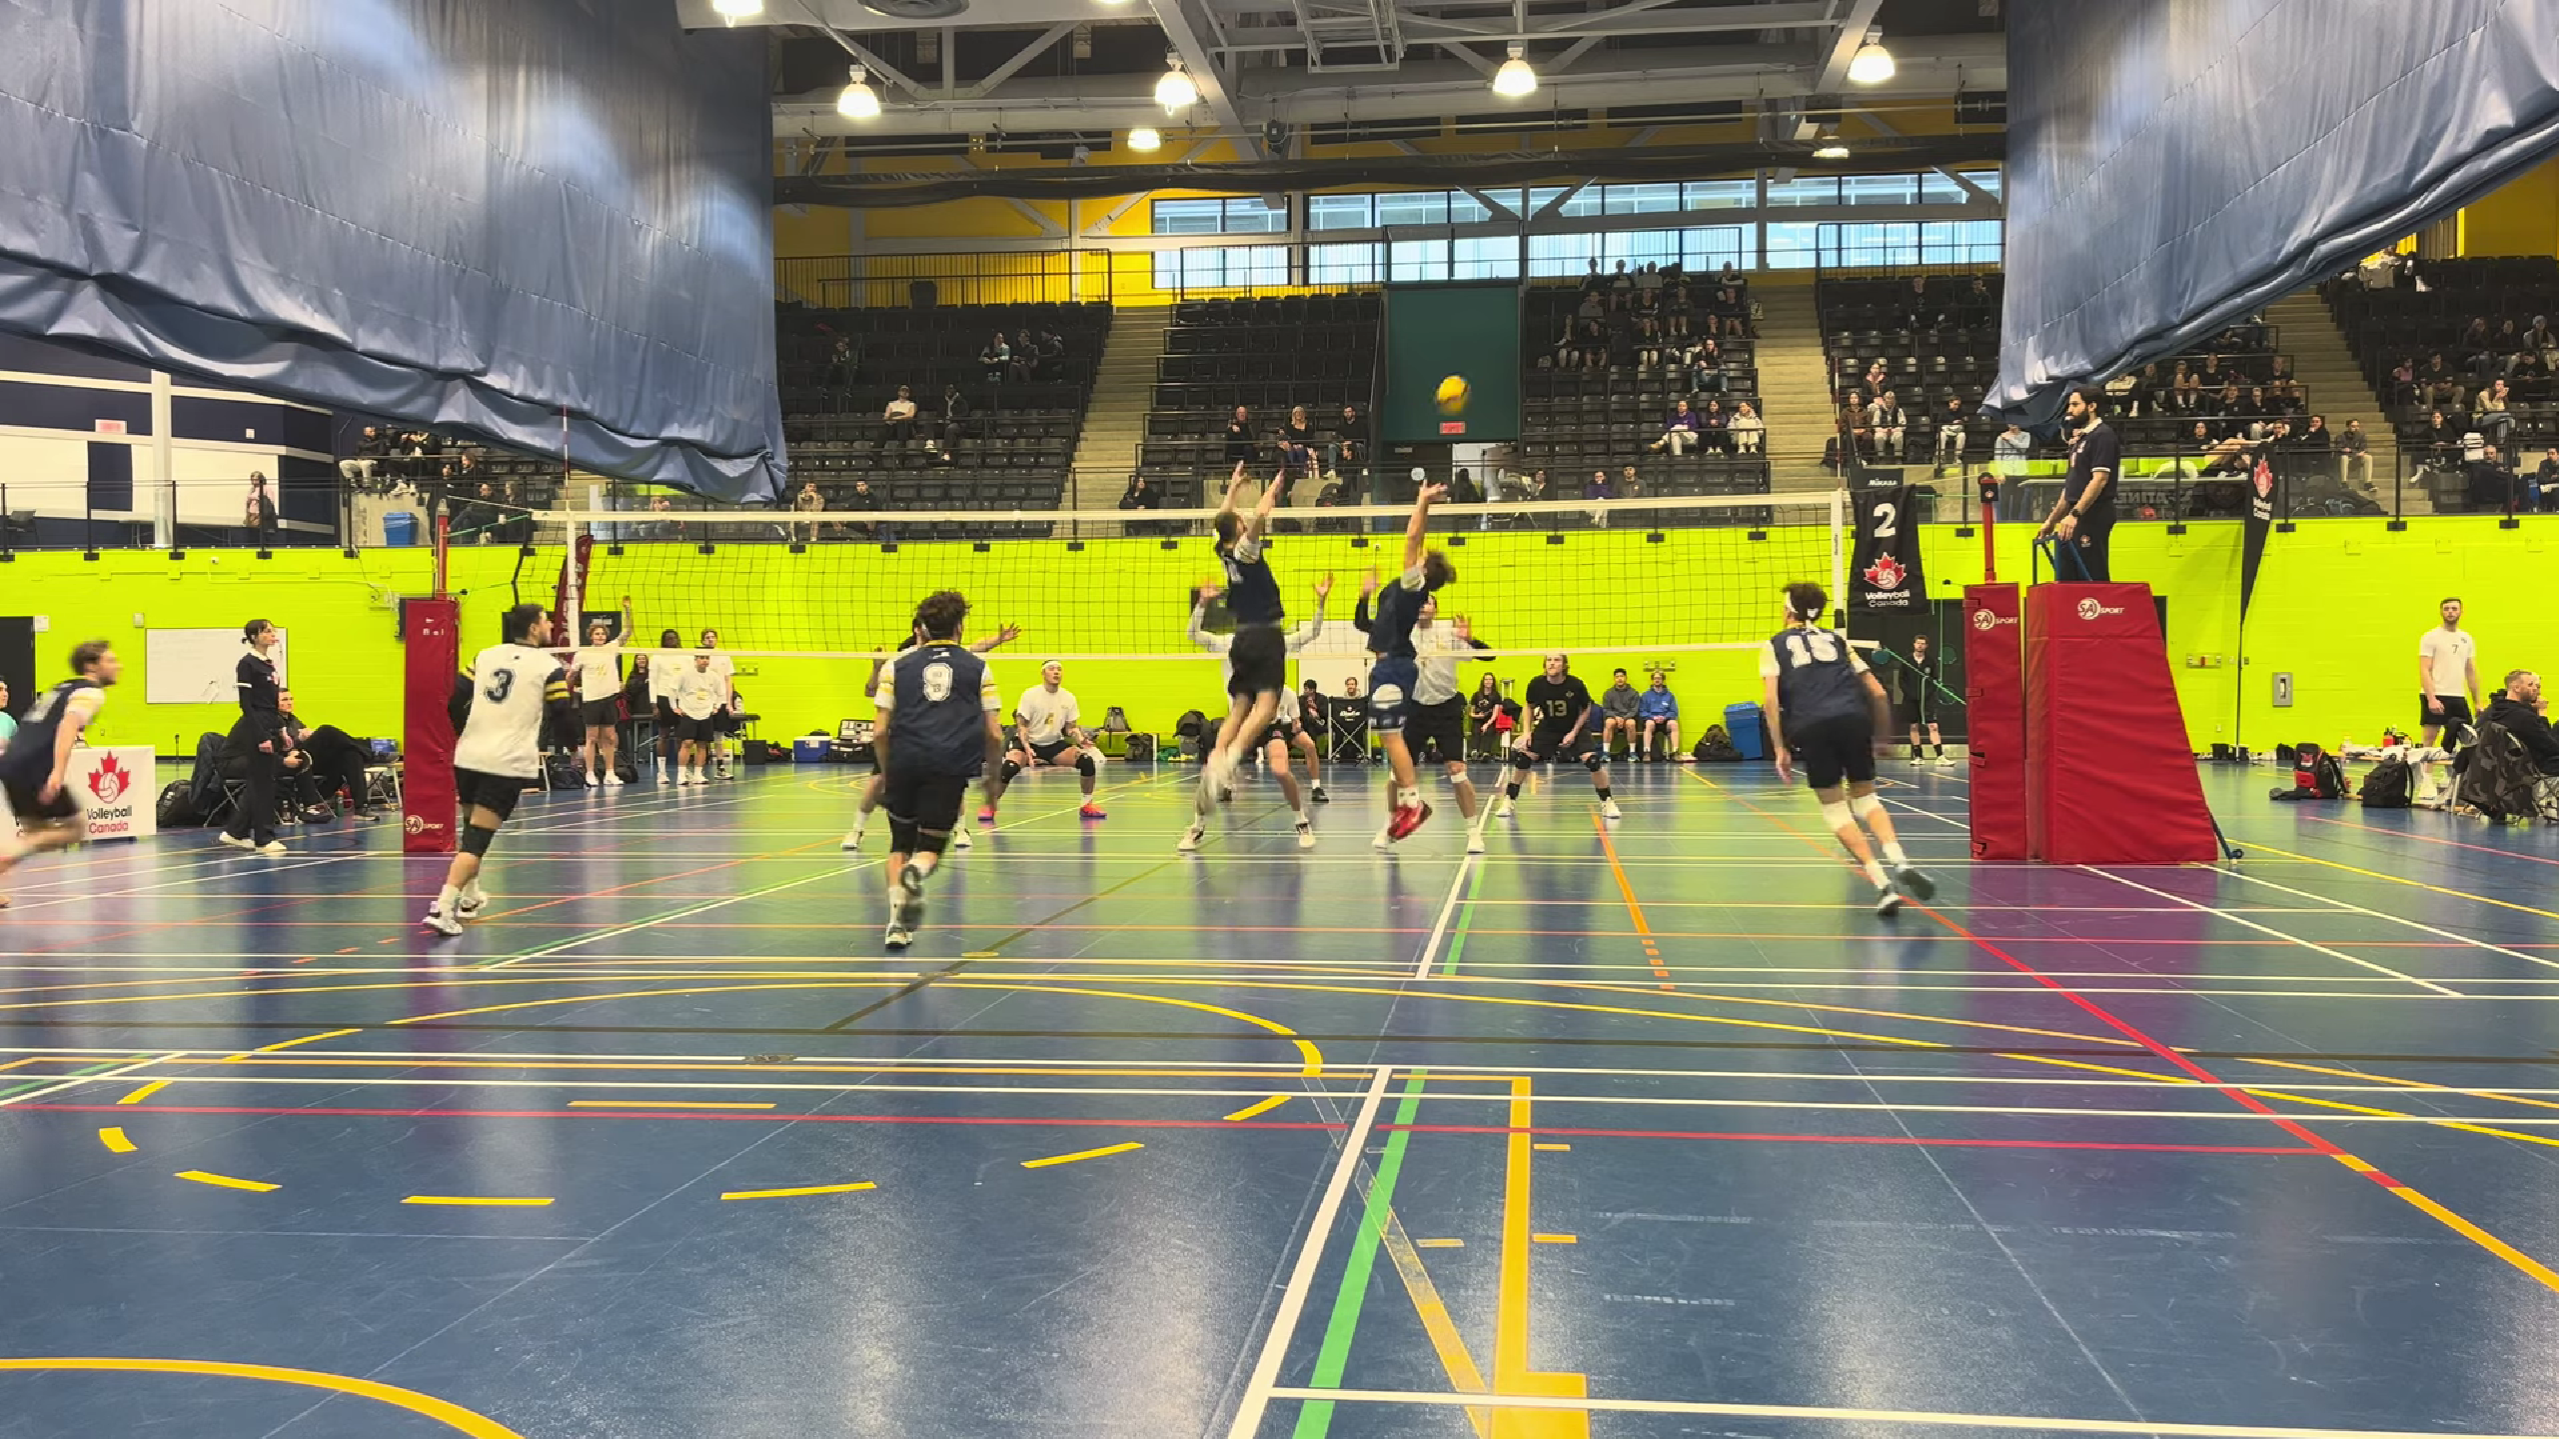Ball: (1429, 371, 1475, 418)
